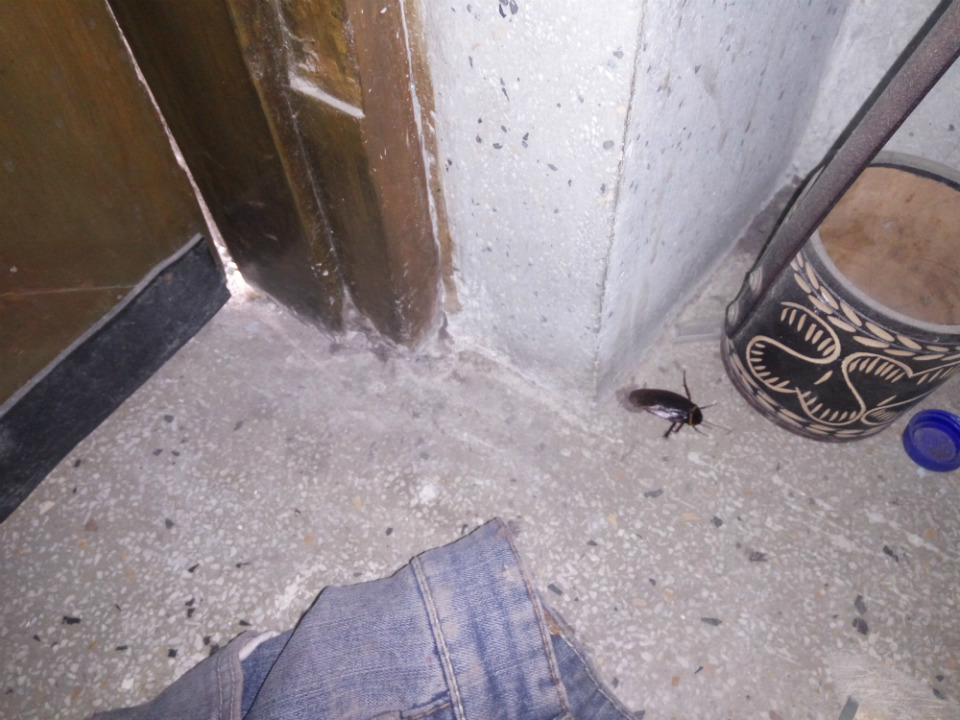cockroach: (594, 357, 746, 447)
